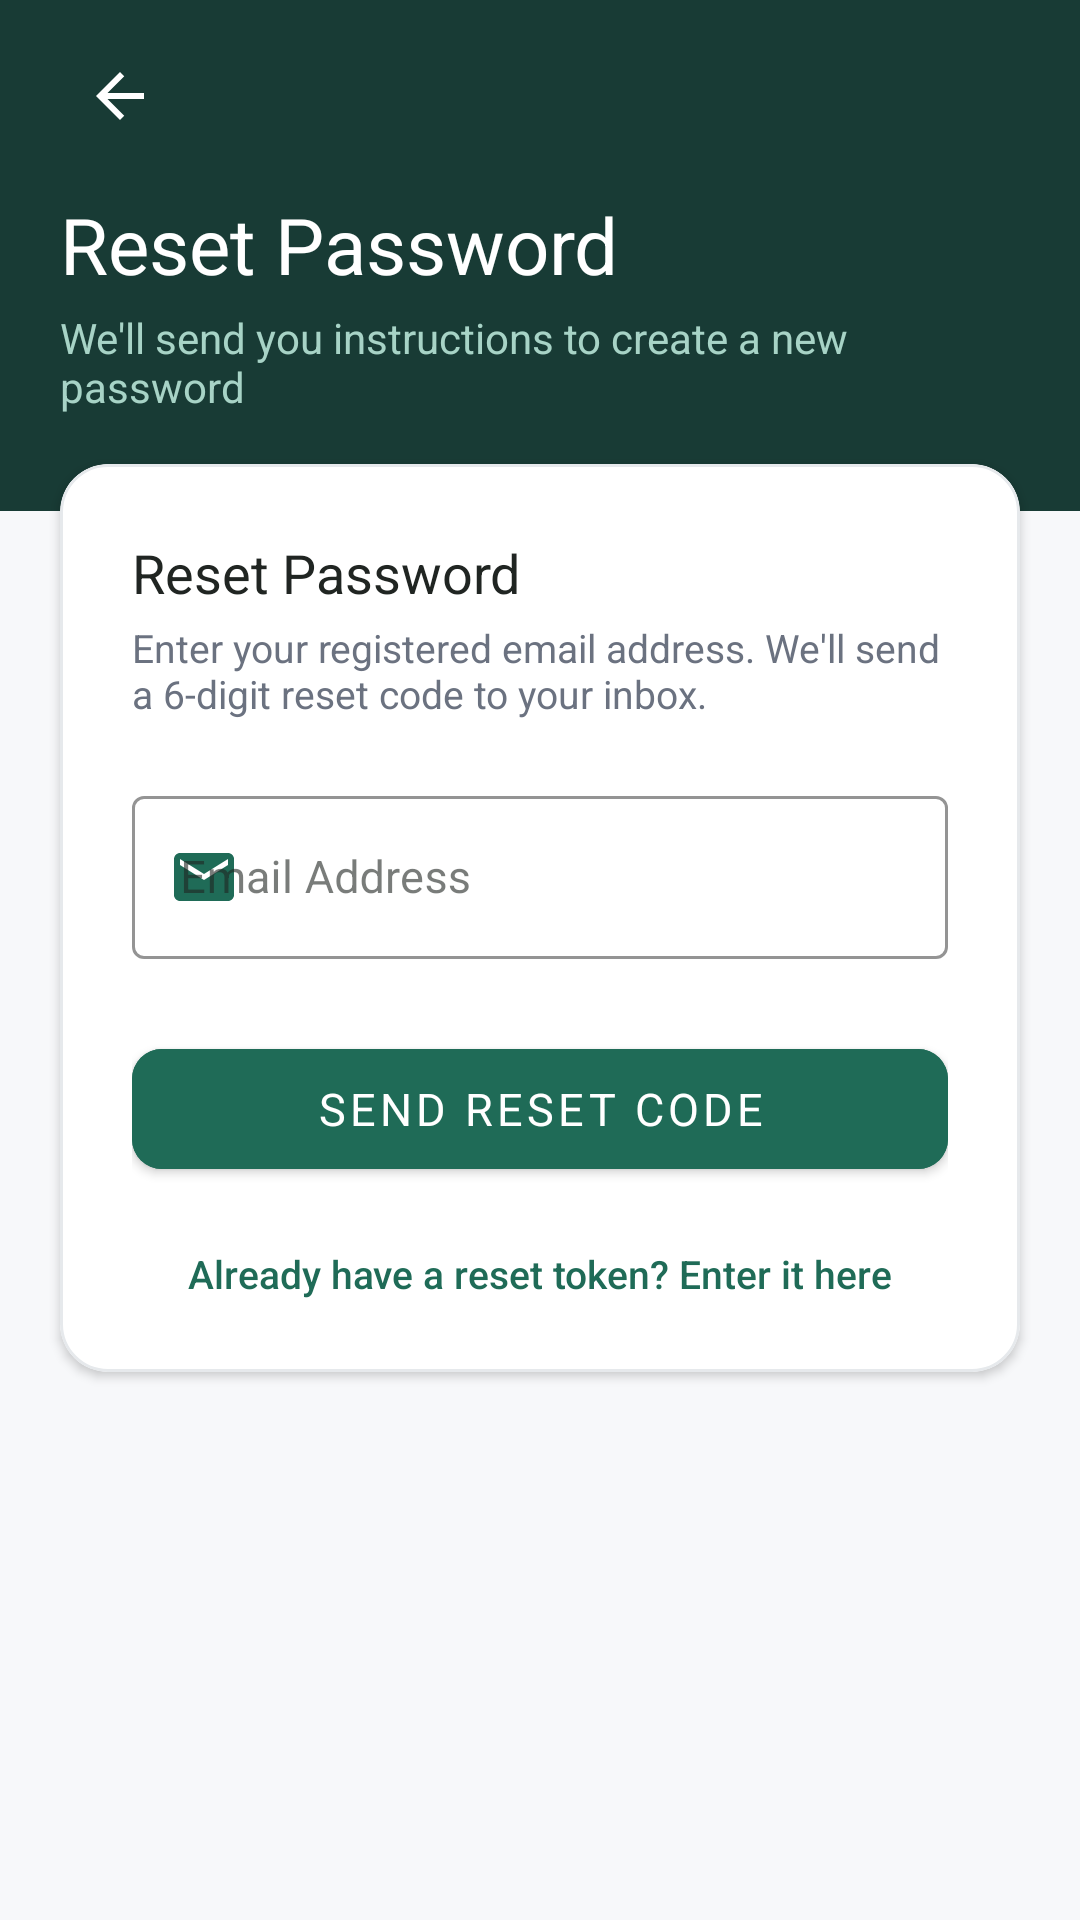

Locate icon controls on the screen. Image size 1080 × 1920, boxes as (x1, y1, x2, y2).
Back: (96, 72, 144, 120)
